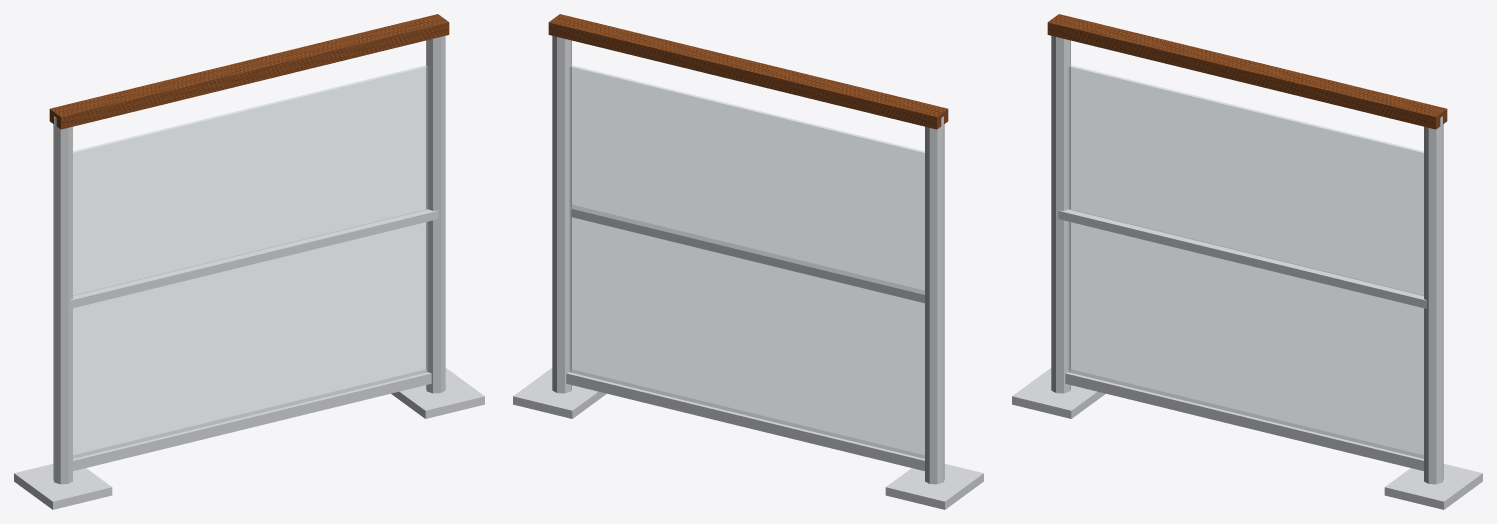
File: cruise-ship-deck-and-lounge-cruise-ship-deck-and-loung-57925cd2__38413.glb
3 renders of one model, left to right at view 1: azimuth 30°, elevation 25°; view 2: azimuth 150°, elevation 25°; view 3: azimuth 330°, elevation 25°, orthographic.
Visible parts, largest first — view 1: cruise-ship-deck-and-lounge-glass-windbreak-panel; view 2: cruise-ship-deck-and-lounge-glass-windbreak-panel; view 3: cruise-ship-deck-and-lounge-glass-windbreak-panel.
Part boxes in pixels (<box>): cruise-ship-deck-and-lounge-glass-windbreak-panel: <box>14,14,484,509</box>; cruise-ship-deck-and-lounge-glass-windbreak-panel: <box>513,14,983,509</box>; cruise-ship-deck-and-lounge-glass-windbreak-panel: <box>1012,14,1482,509</box>.
Bounding box in the file's own units: 2.18 × 1.82 × 0.3398.
Materials: 3 (1 with a texture image).
